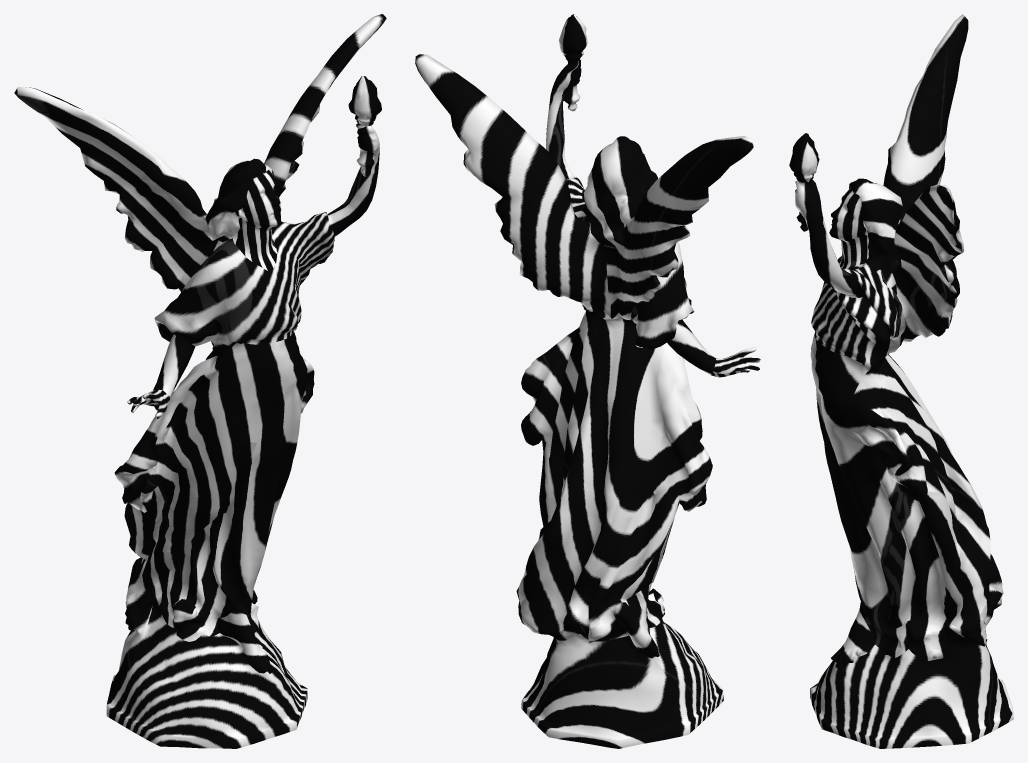
File: angel_mini.obj
3 renders of one model, left to right at view 1: azimuth 30°, elevation 25°; view 2: azimuth 150°, elevation 25°; view 3: azimuth 270°, elevation 25°, orthographic. The views are drawn at different scales.
Parts seen in each view (by area): view 1: Stanford's_Lucy_Angel; view 2: Stanford's_Lucy_Angel; view 3: Stanford's_Lucy_Angel.
Boxes of the visible parts, box(x1,y1,x2,y2) form: Stanford's_Lucy_Angel: box(14, 14, 386, 748); Stanford's_Lucy_Angel: box(415, 14, 760, 748); Stanford's_Lucy_Angel: box(789, 14, 1013, 748).
Bounding box in the file's own units: 8.08 × 13.93 × 4.54.
Materials: 1 (1 with a texture image).
